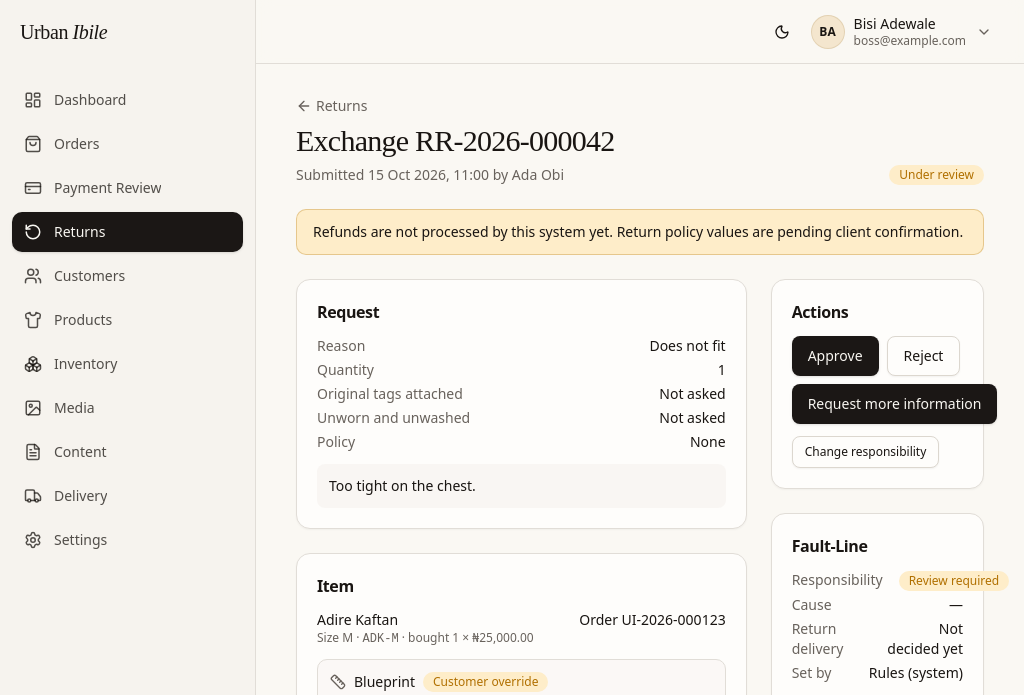
Test: return review › a plain admin (client staff) can open the responsibility change
What coordinates should you click on to do the following:
click the button "Change responsibility"
I would click on:
 (866, 452)
Its box is [792,436,939,468].
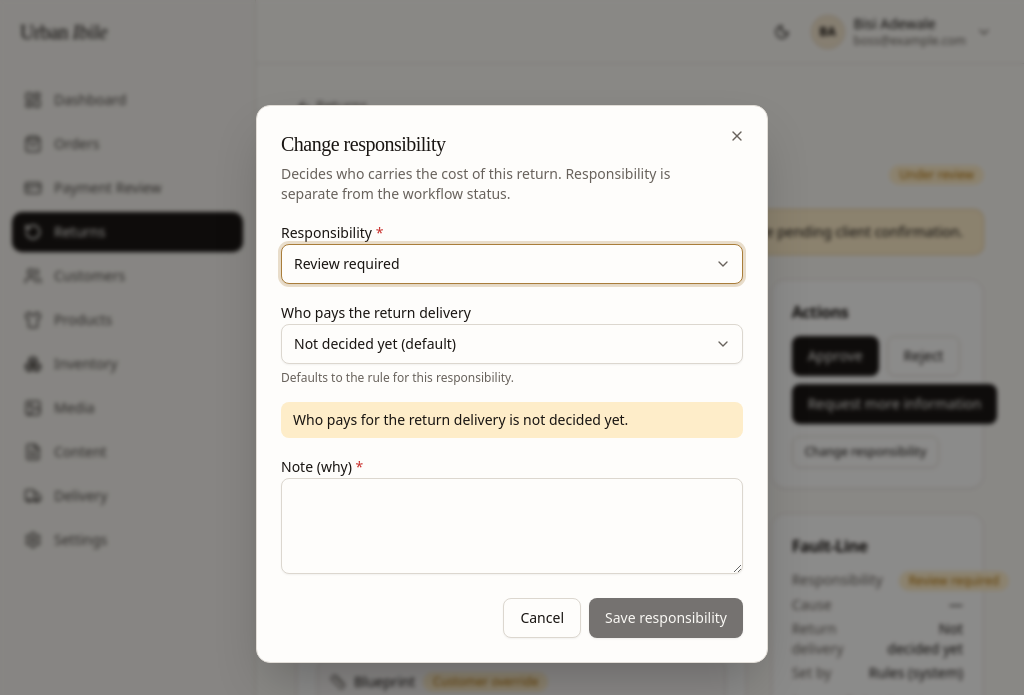
Result: the button "Save responsibility" is disabled at [589,598,743,638]
